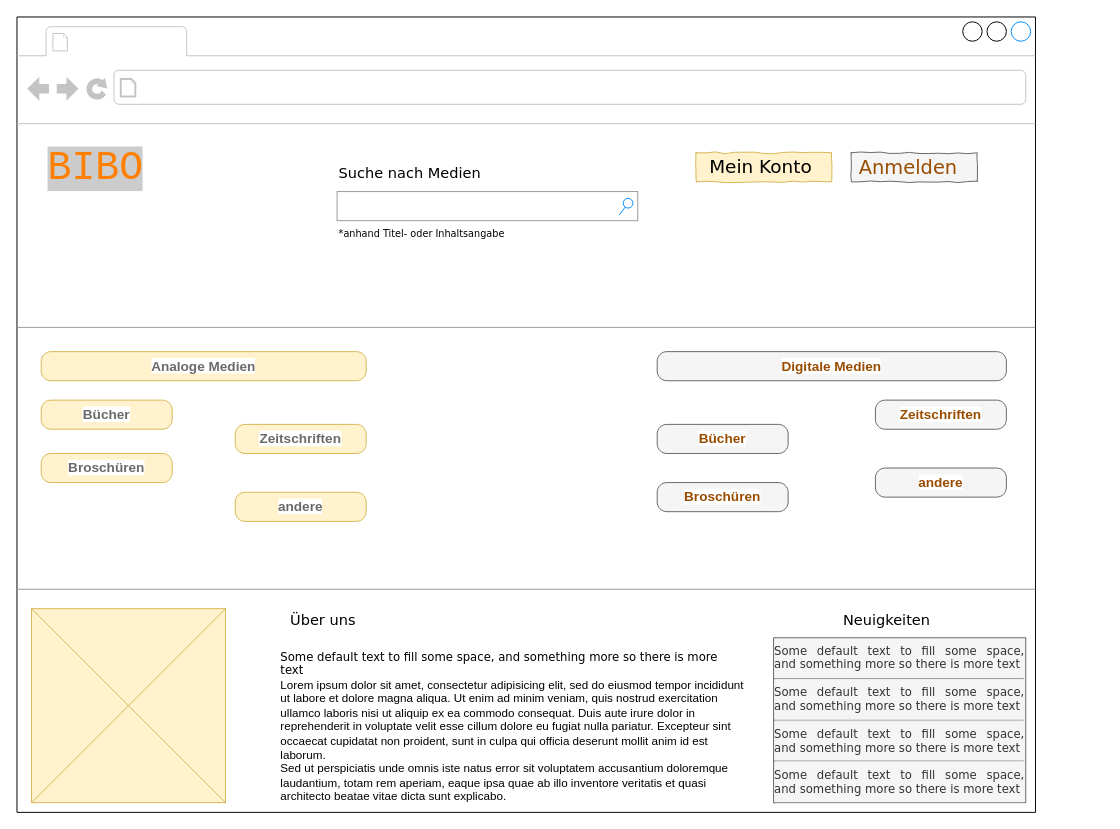
Some shapes in this 1120 by 829 pixel diagram are drawn without their labels. Here are the shapes that lost their labels. From the top down, the centre of each, then its label:
At point (128, 41): "Page 1".
At point (264, 87): "https://www.bibo.de".
At point (487, 206): "Search".
